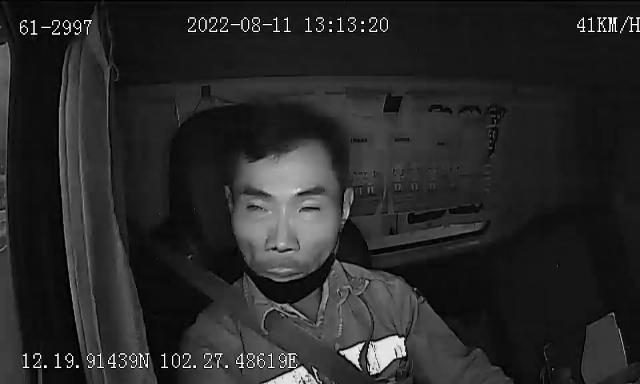SafeDriving: (449, 95, 494, 123), (418, 96, 460, 122), (291, 193, 330, 219), (238, 194, 276, 216)
Seatbelt: (114, 236, 383, 384)
